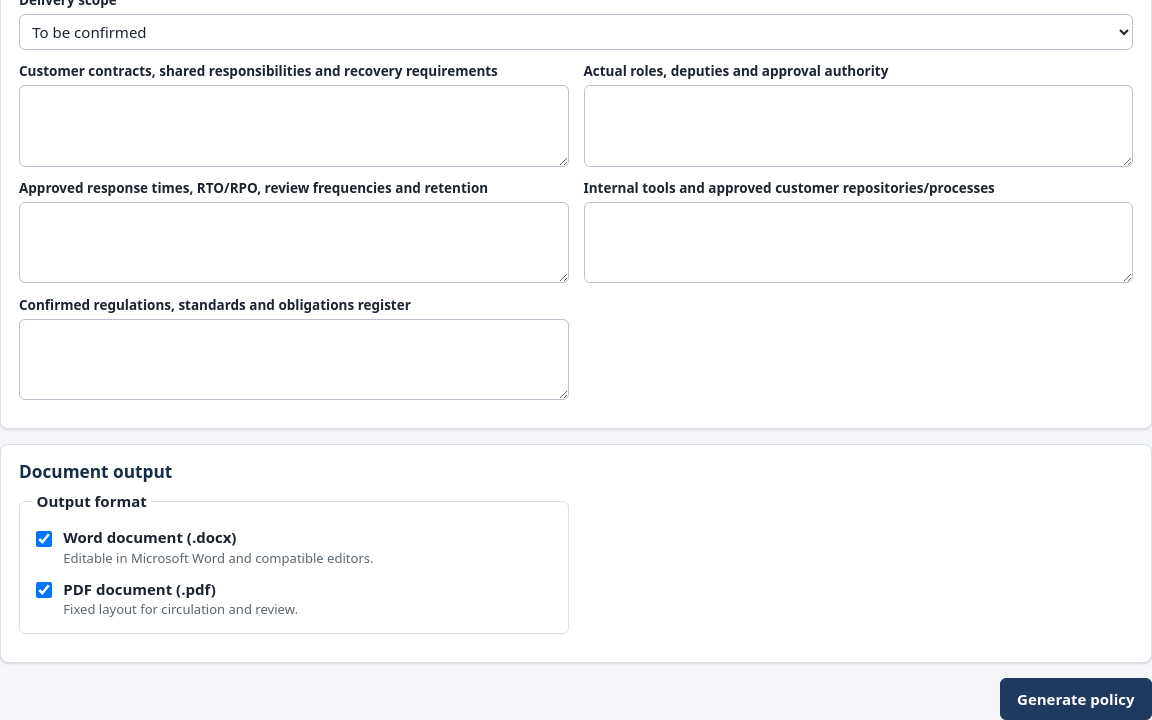
Test case: ConfigurePage › loads recommendations, starts generation and opens the report
(page scrolled)
Click the button "Generate policy" at {"x": 1076, "y": 699}, box [1000,678,1151,719]
(page scrolled)
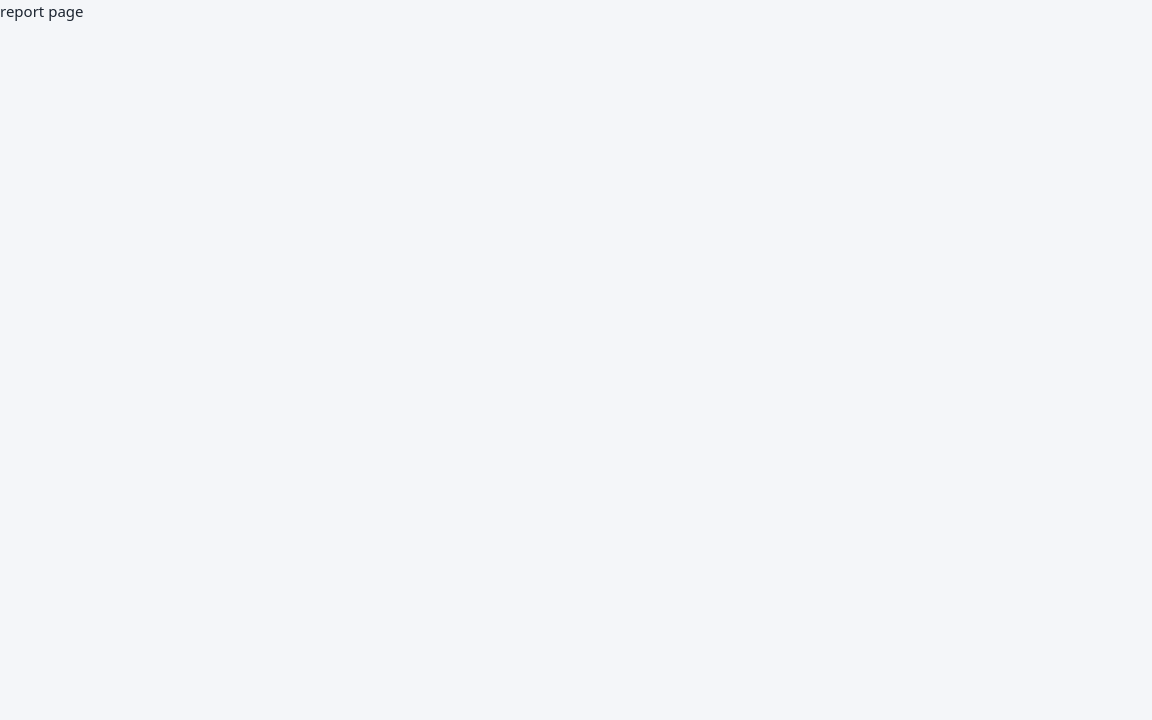
Now the text "report page" is shown, box [0,1,84,21]
